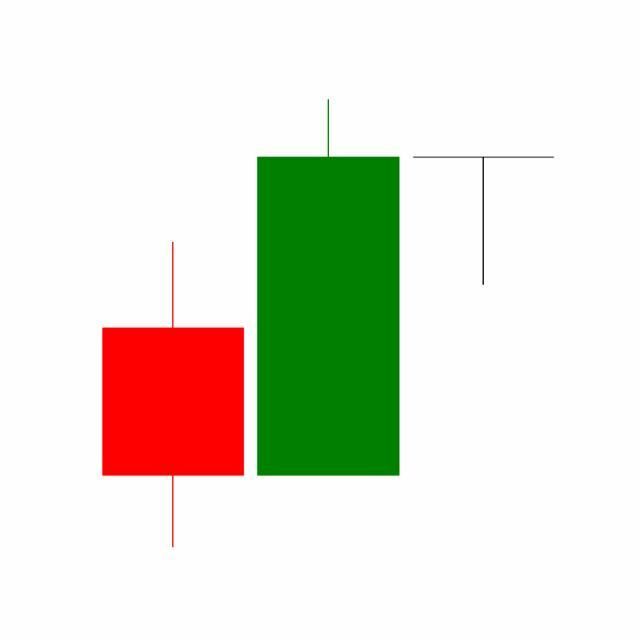Dragonfly Doji: (406, 156, 562, 288)
